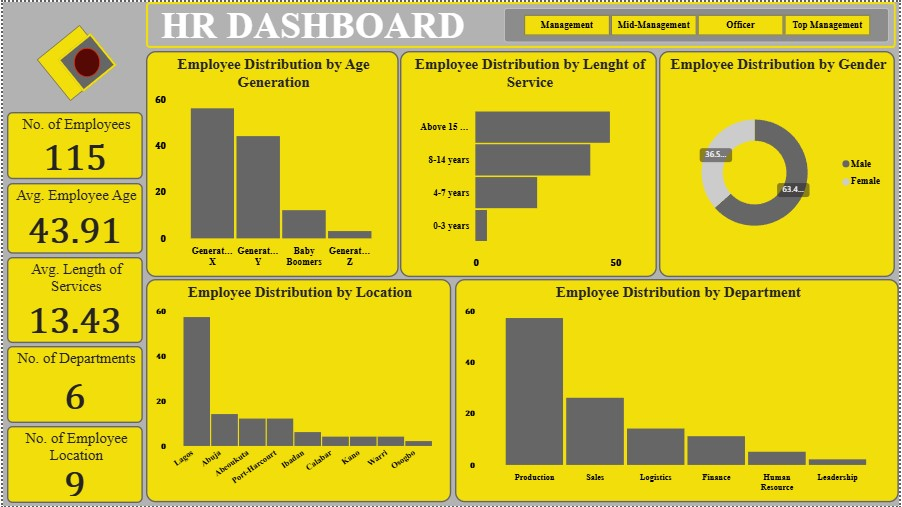

Layout of this report page (visuals, bound fields, positions):
{"tool":"powerbi","page":{"name":"Page 1","canvas":[1280,720],"ordinal":0},"visuals":[{"type":"shape","box":[28.6,32.9,148.6,108.6],"z":0,"group":"g1"},{"type":"donutChart","title":"Employee Distribution by Gender","fields":{"Category":["HR Dashboard_Segun Akiode.Gender"],"Y":["HR Dashboard_Segun Akiode.Employee ID"]},"box":[937.3,70.2,337.2,323.4],"z":0},{"type":"shape","box":[62.9,44.3,114.3,84.3],"z":1000,"group":"g1"},{"type":"clusteredColumnChart","title":"Employee Distribution by Department","fields":{"Category":["HR Dashboard_Segun Akiode.Department"],"Y":["HR Dashboard_Segun Akiode.Employee ID"]},"box":[645.5,396.4,634.5,319.3],"z":1000},{"type":"shape","box":[101.5,65.8,37.1,41.4],"z":2000,"group":"g1"},{"type":"clusteredColumnChart","title":"Employee Distribution by Age Generation","fields":{"Y":["HR Dashboard_Segun Akiode.Employee ID"],"Category":["HR Dashboard_Segun Akiode.Age Description"]},"box":[203.7,70.2,360.6,323.4],"z":2000},{"type":"clusteredColumnChart","title":"Employee Distribution by Location","fields":{"Y":["HR Dashboard_Segun Akiode.Employee ID"],"Category":["HR Dashboard_Segun Akiode.Location"]},"box":[203.7,396.4,436.3,319.3],"z":3000},{"type":"card","title":"Avg. Employee Age","fields":{"Values":["HR Dashboard_Segun Akiode.AVGAge"]},"box":[5.7,258.6,194.3,101.4],"z":4000},{"type":"card","title":"Avg. Length of Services","fields":{"Values":["HR Dashboard_Segun Akiode.Length of Service"]},"box":[5.7,364.3,194.3,122.9],"z":5000},{"type":"card","title":"No. of Employees","fields":{"Values":["HR Dashboard_Segun Akiode.Employee ID"]},"box":[5.7,157.1,194.3,95.7],"z":6000},{"type":"card","title":"No. of Departments","fields":{"Values":["HR Dashboard_Segun Akiode.Department"]},"box":[5.7,491.4,194.3,110],"z":7000},{"type":"card","title":"No. of Employee Location","fields":{"Values":["HR Dashboard_Segun Akiode.Location"]},"box":[5.7,605.7,194.3,110],"z":8000},{"type":"shape","box":[204.3,0,1071.4,65.7],"z":10000},{"type":"slicer","fields":{"Values":["HR Dashboard_Segun Akiode.Job Grade"]},"box":[715.7,8.6,550,48.6],"z":11000},{"type":"group","id":"g1","title":"Group 1","box":[28.6,32.9,148.6,108.6],"z":12000},{"type":"clusteredBarChart","title":"Employee Distribution by Lenght of Service","fields":{"Category":["HR Dashboard_Segun Akiode.LOS Range"],"Y":["HR Dashboard_Segun Akiode.Employee ID"]},"box":[567.1,70.2,367.5,323.4],"z":13001}]}

Visuals, with their boxes in screenshot pixels (x1, y1, x2, y2), scaled from the page's 1280x720 canvas onto the 902x507 screenshot:
shape: 20,23,125,100
"Employee Distribution by Gender" donutChart: 661,49,898,277
shape: 44,31,125,91
"Employee Distribution by Department" clusteredColumnChart: 455,279,901,504
shape: 72,46,98,75
"Employee Distribution by Age Generation" clusteredColumnChart: 144,49,398,277
"Employee Distribution by Location" clusteredColumnChart: 144,279,451,504
"Avg. Employee Age" card: 4,182,141,254
"Avg. Length of Services" card: 4,257,141,343
"No. of Employees" card: 4,111,141,178
"No. of Departments" card: 4,346,141,423
"No. of Employee Location" card: 4,427,141,504
shape: 144,0,899,46
slicer - HR Dashboard_Segun Akiode.Job Grade: 504,6,892,40
"Group 1" group: 20,23,125,100
"Employee Distribution by Lenght of Service" clusteredBarChart: 400,49,659,277
